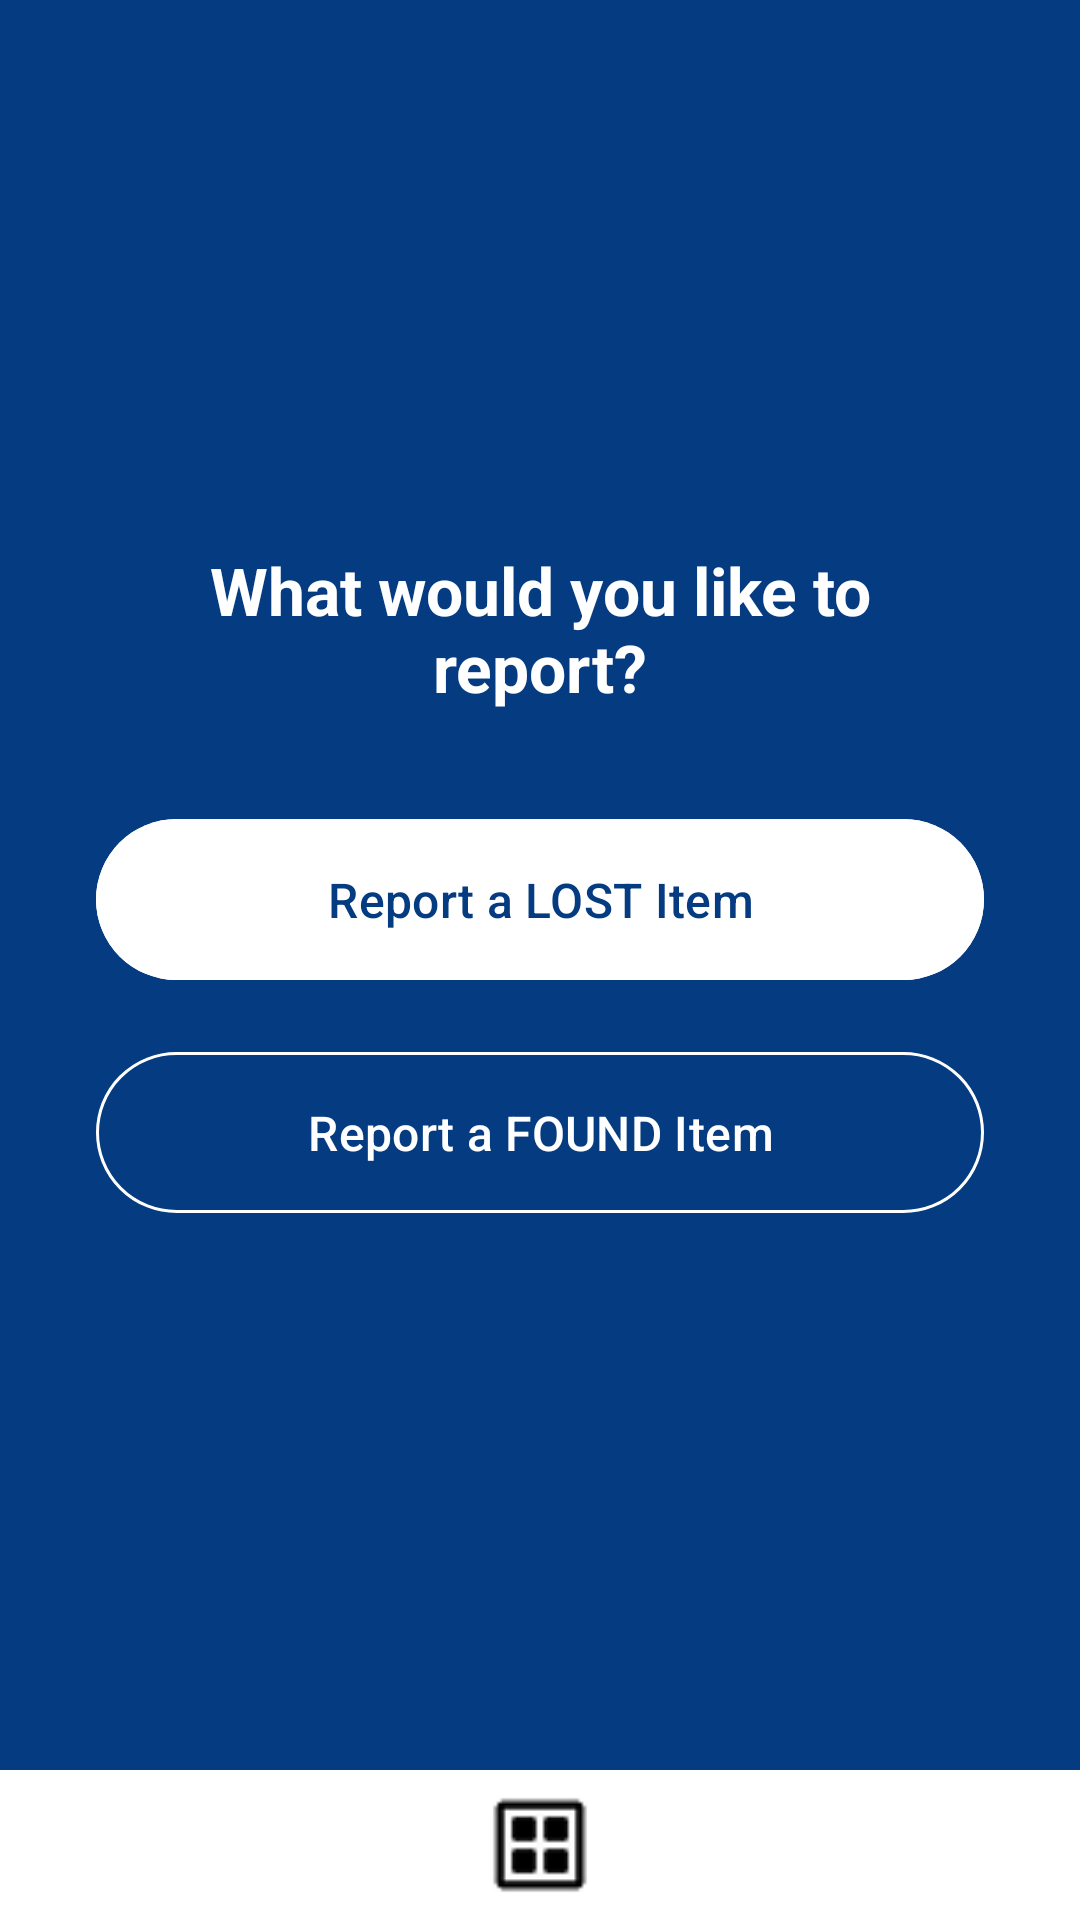

Icons on this 1080px×1920px Android screen, each with its box as (x1, y1, x2, y2):
Dashboard: (493, 1798, 587, 1892)
